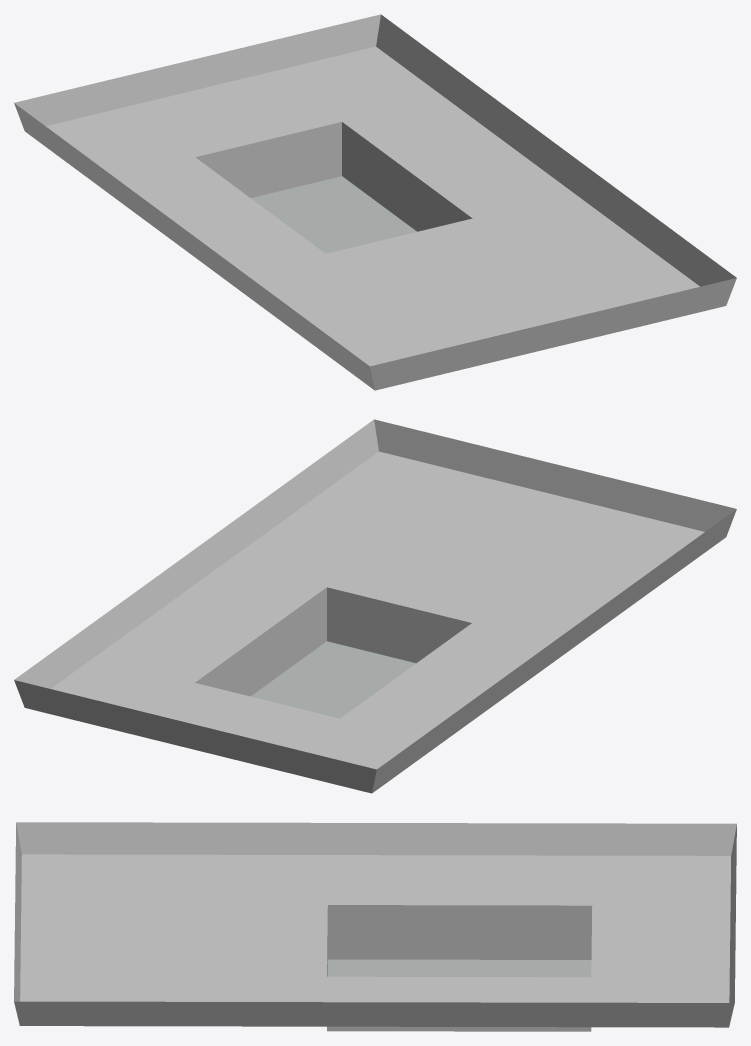
Rendered from pitpool1.dae.
3 views of the same model, one above another, from view 1: azimuth 30°, elevation 25°; view 2: azimuth 150°, elevation 25°; view 3: azimuth 270°, elevation 25° (orthographic).
Parts seen in each view (by area): view 1: node_pitpool; view 2: node_pitpool; view 3: node_pitpool.
Boxes of the visible parts, <box> form: node_pitpool: <box>14,14,736,390</box>; node_pitpool: <box>14,419,736,793</box>; node_pitpool: <box>14,822,736,1031</box>.
Bounding box in the file's own units: 72.77 × 15.55 × 123.
